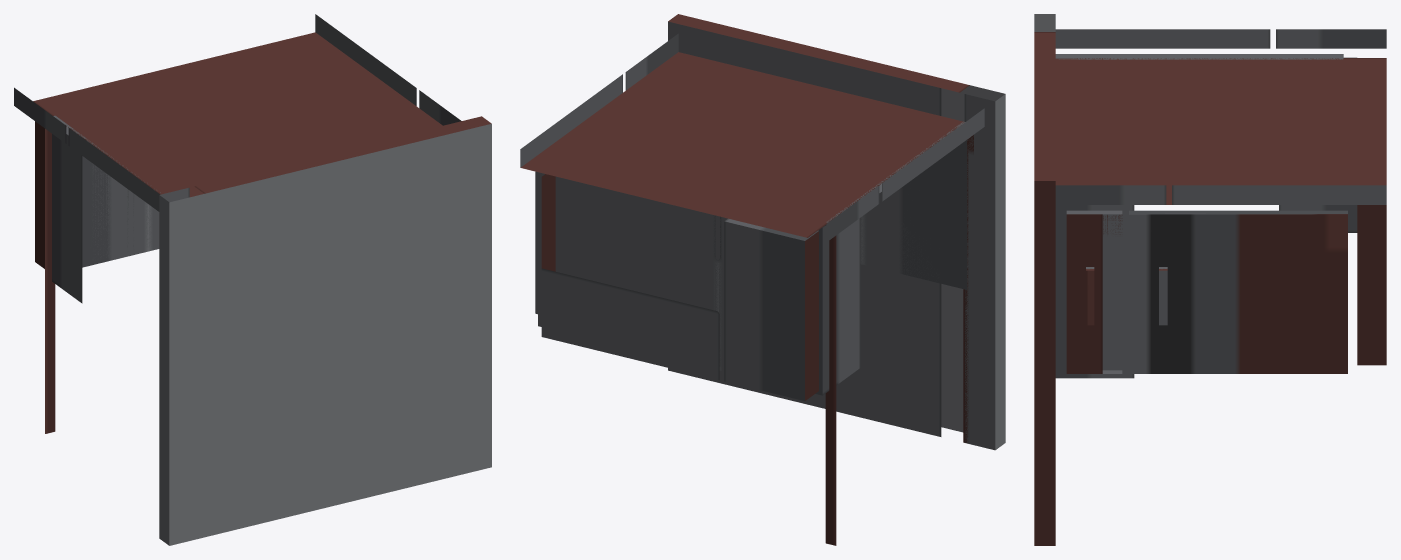
Rendered from section-0.obj.
The picture shows the model from 3 angles, left to right: view 1: azimuth 30°, elevation 25°; view 2: azimuth 150°, elevation 25°; view 3: azimuth 270°, elevation 25°; orthographic projection. The views are drawn at different scales.
Bounding box in the file's own units: 0.92 × 0.937 × 0.82.
